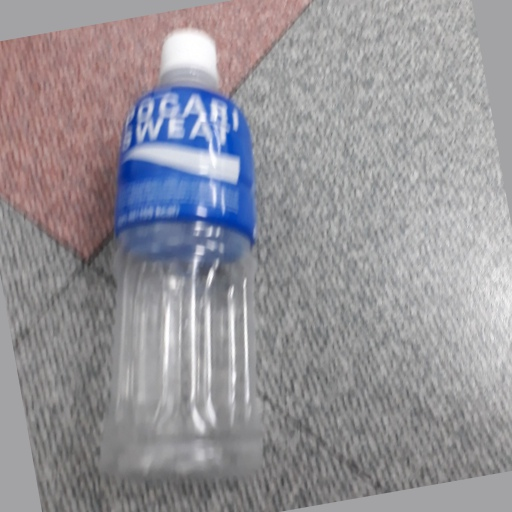Plastic_0: (107, 26, 262, 481)
